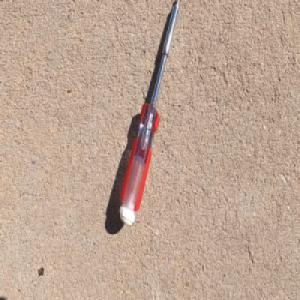Screwdriver: (118, 0, 180, 227)
